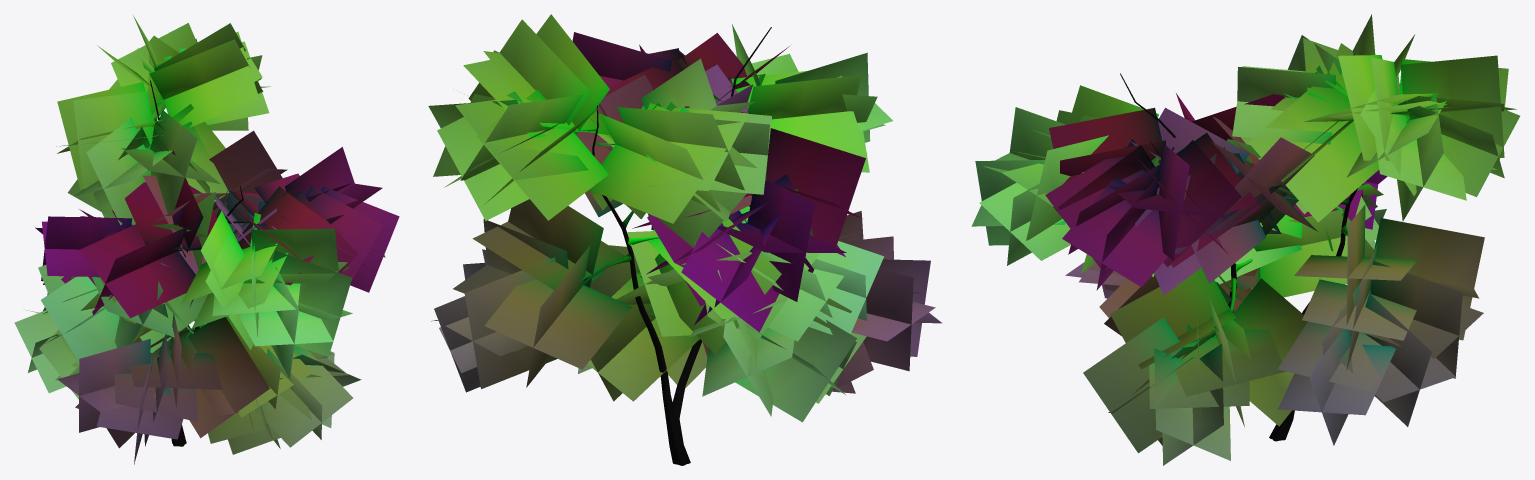
File: URP_P14_Tree_6_LOD_1.fbx
3 renders of one model, left to right at view 1: azimuth 30°, elevation 25°; view 2: azimuth 150°, elevation 25°; view 3: azimuth 270°, elevation 25°, orthographic. The views are drawn at different scales.
Visible parts, largest first — view 1: Tree_6_LOD_1; view 2: Tree_6_LOD_1; view 3: Tree_6_LOD_1.
Part boxes in pixels (x1,y1,x2,y2): Tree_6_LOD_1: (14,15,399,464); Tree_6_LOD_1: (428,14,941,465); Tree_6_LOD_1: (971,14,1519,465).
Bounding box in the file's own units: 385 × 430 × 494.
